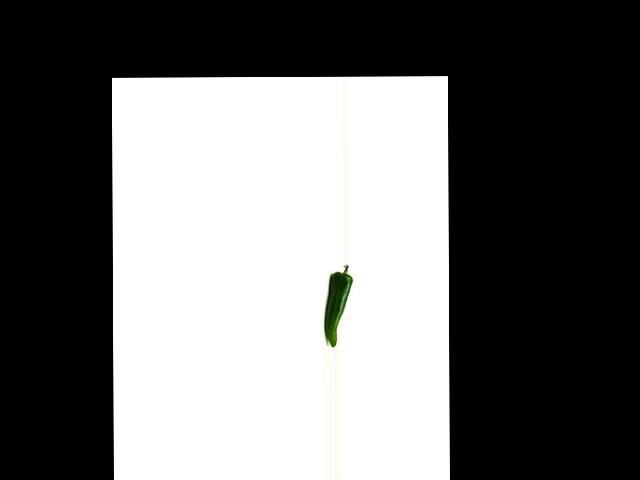bell_pepper: (322, 262, 354, 347)
